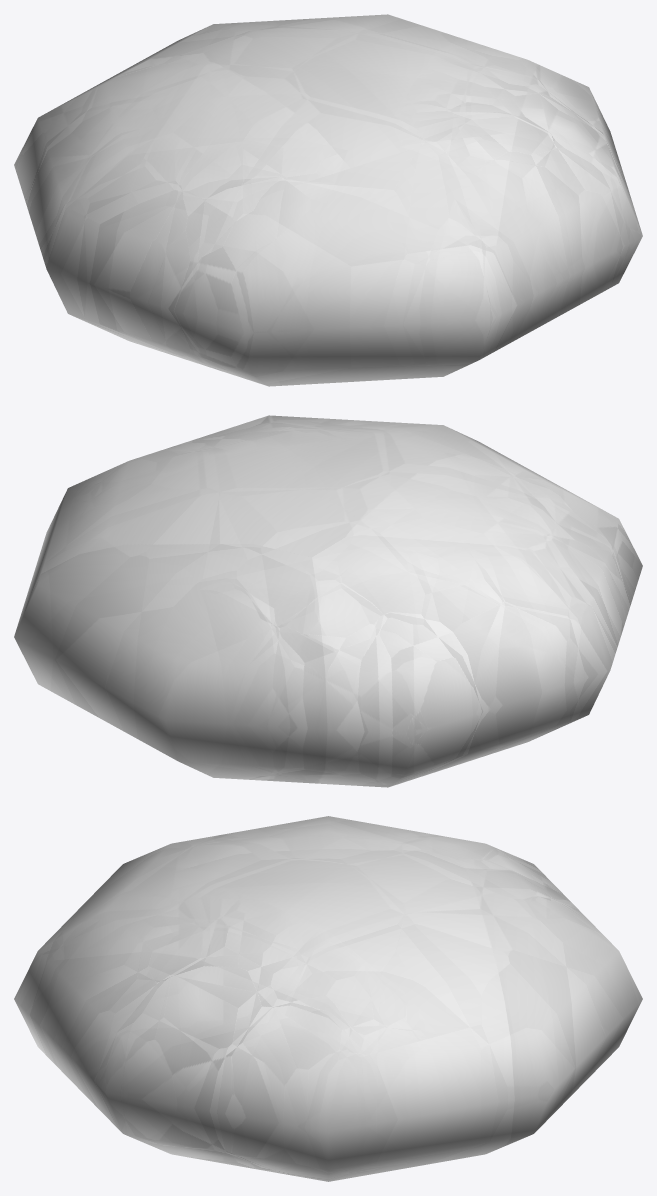
The model's file is G_Smartie.fbx.
3 renders of one model, top to bottom at view 1: azimuth 30°, elevation 25°; view 2: azimuth 150°, elevation 25°; view 3: azimuth 270°, elevation 25°, orthographic. The views are drawn at different scales.
Parts seen in each view (by area): view 1: Smartie; view 2: Smartie; view 3: Smartie.
Part boxes in pixels (x1,y1,x2,y2): Smartie: (14,14,642,386); Smartie: (14,415,642,787); Smartie: (14,816,642,1181).
Size of the model in its own units: 0.2343 by 0.1034 by 0.2343.
